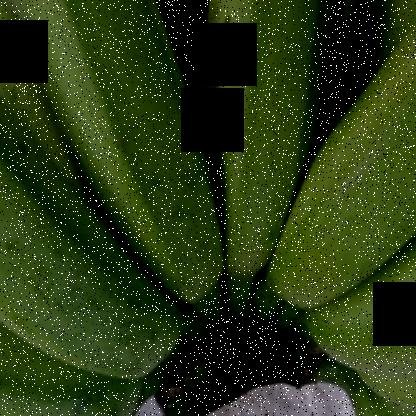unripe: (30, 1, 214, 326), (198, 1, 344, 282), (278, 24, 416, 311), (0, 174, 186, 378)
